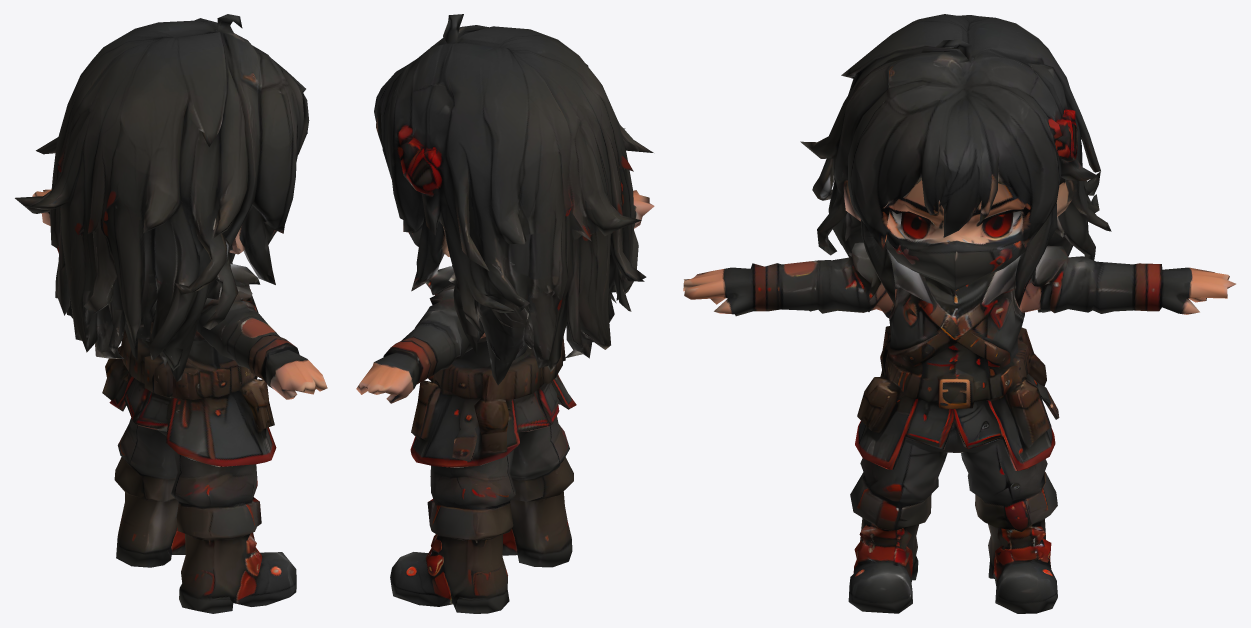
Rendered from 5to+personaje+vengativo.obj.
3 views of the same model, side by side, from view 1: azimuth 30°, elevation 25°; view 2: azimuth 150°, elevation 25°; view 3: azimuth 270°, elevation 25° (orthographic). The views are drawn at different scales.
Parts seen in each view (by area): view 1: tripo_node_dd74b963-7727-4eeb-ab1c-618888ec431e; view 2: tripo_node_dd74b963-7727-4eeb-ab1c-618888ec431e; view 3: tripo_node_dd74b963-7727-4eeb-ab1c-618888ec431e.
Part boxes in pixels (x1,y1,x2,y2): tripo_node_dd74b963-7727-4eeb-ab1c-618888ec431e: (15,14,327,613); tripo_node_dd74b963-7727-4eeb-ab1c-618888ec431e: (356,14,654,613); tripo_node_dd74b963-7727-4eeb-ab1c-618888ec431e: (683,14,1235,613).
Size of the model in its own units: 0.5058 by 0.9985 by 0.8903.
1 material, 1 textured.
